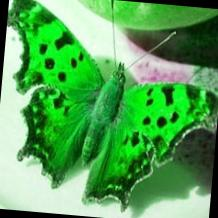butterfly: (7, 0, 218, 212)
